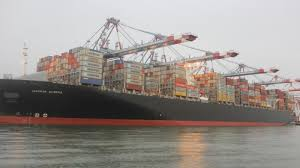tau_dansu: (7, 38, 297, 129)
